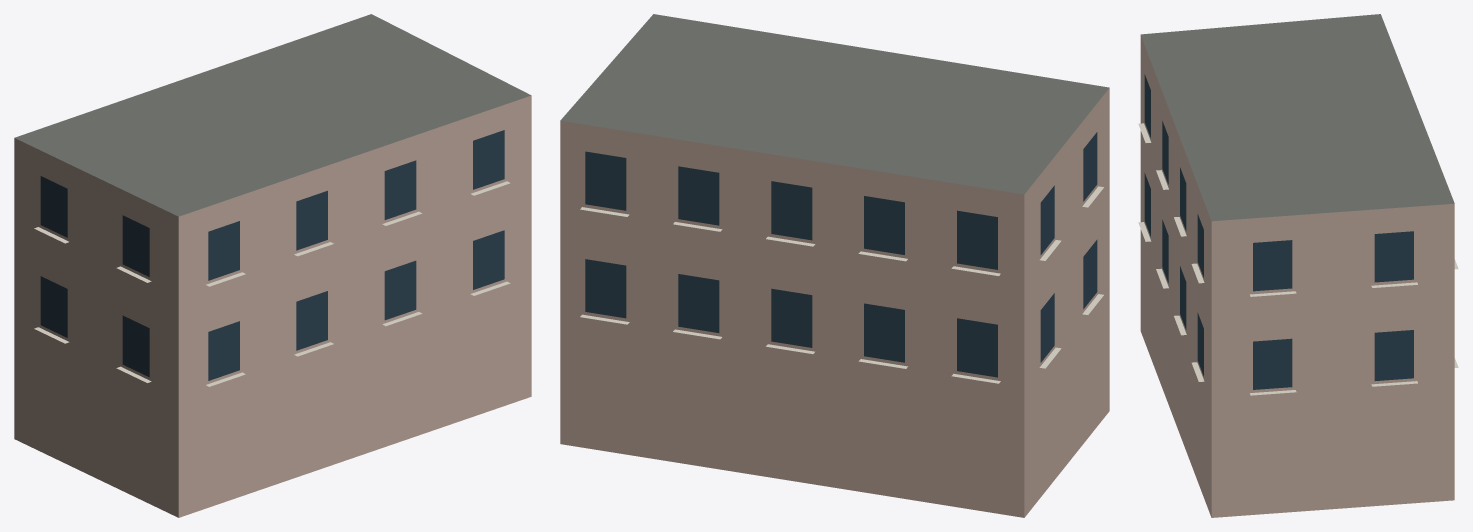
3 renders of one model, left to right at view 1: azimuth 30°, elevation 25°; view 2: azimuth 150°, elevation 25°; view 3: azimuth 270°, elevation 25°, orthographic. The views are drawn at different scales.
Parts seen in each view (by area): view 1: Footprint 0, Inferred window bays, Window sills; view 2: Footprint 0, Inferred window bays, Window sills; view 3: Footprint 0, Inferred window bays, Window sills.
Part boxes in pixels (<box>): Footprint 0: <box>14,14,531,517</box>; Inferred window bays: <box>40,130,504,380</box>; Window sills: <box>34,181,510,386</box>; Footprint 0: <box>560,14,1109,517</box>; Inferred window bays: <box>585,132,1097,377</box>; Window sills: <box>580,186,1103,383</box>; Footprint 0: <box>1140,14,1454,517</box>; Inferred window bays: <box>1144,74,1413,389</box>; Window sills: <box>1138,123,1458,395</box>.
Size of the model in its own units: 15.17 by 10.1 by 9.89.
